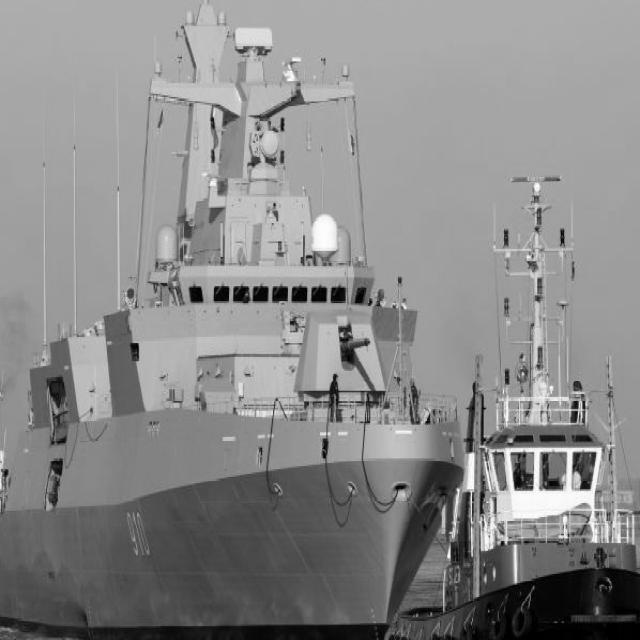Fragata: (1, 1, 474, 639)
